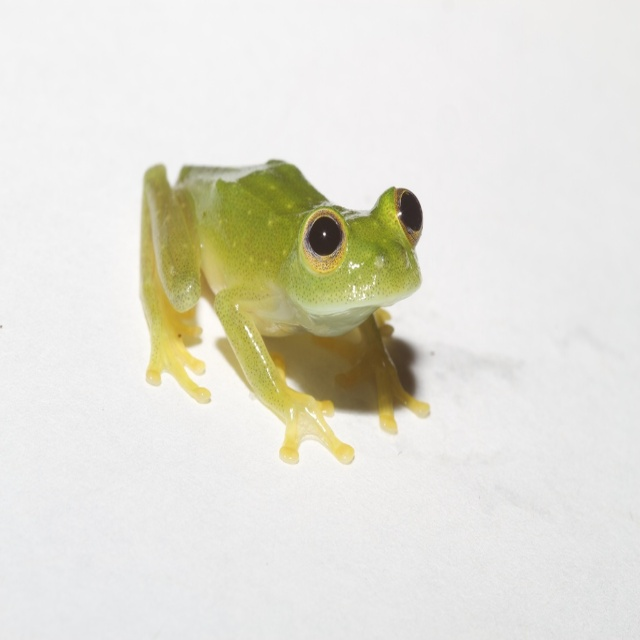Frog: (137, 162, 430, 466)
